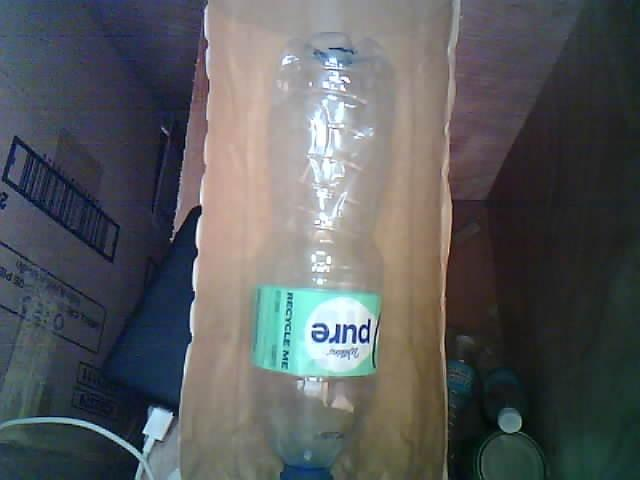large_bottle: (238, 24, 402, 480)
